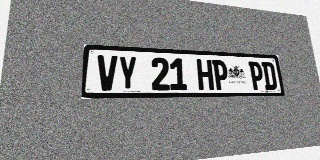1: (169, 58, 187, 90)
2: (151, 57, 170, 90)
D: (261, 62, 278, 90)
H: (196, 59, 214, 90)
P: (212, 60, 229, 90), (248, 61, 265, 90)
V: (97, 55, 117, 91)
Y: (118, 56, 137, 91)
